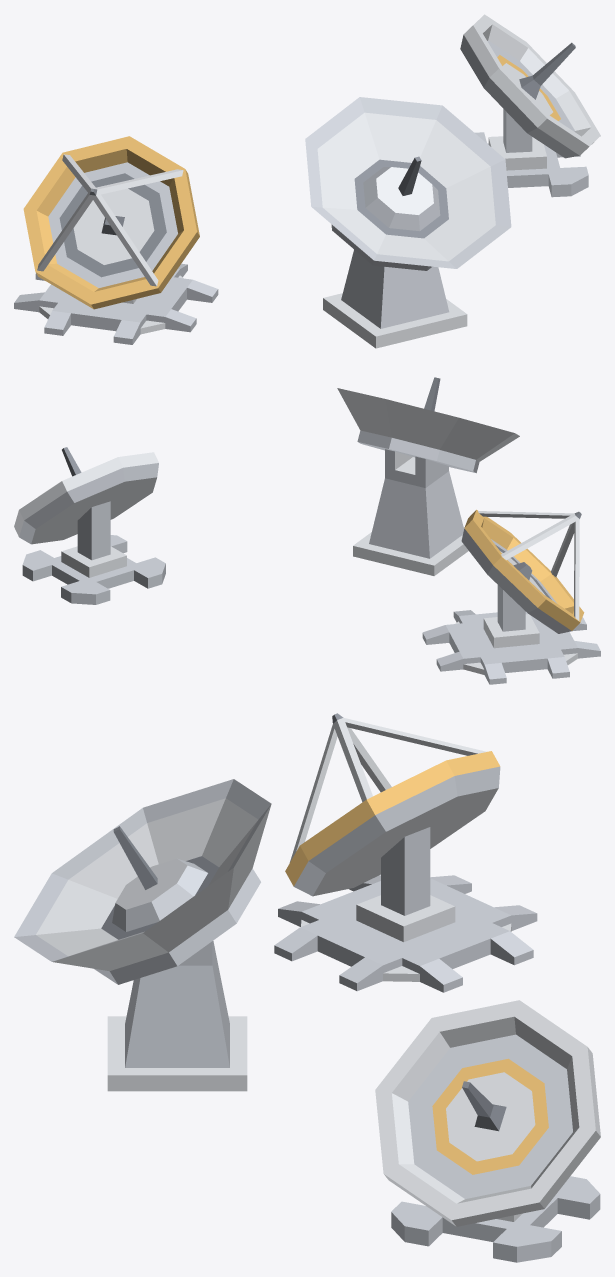
Rendered from satelite1.glb.
3 renders of one model, top to bottom at view 1: azimuth 30°, elevation 25°; view 2: azimuth 150°, elevation 25°; view 3: azimuth 270°, elevation 25°, orthographic. The views are drawn at different scales.
Parts seen in each view (by area): view 1: satelliteDish_large, satelliteDish_detailed, satelliteDish; view 2: satelliteDish_large, satelliteDish_detailed, satelliteDish; view 3: satelliteDish_large, satelliteDish, satelliteDish_detailed.
Part boxes in pixels (<box>): satelliteDish_large: <box>305,97,511,348</box>; satelliteDish_detailed: <box>14,136,218,344</box>; satelliteDish: <box>460,14,600,197</box>; satelliteDish_large: <box>337,377,519,575</box>; satelliteDish_detailed: <box>422,509,600,684</box>; satelliteDish: <box>14,447,165,604</box>; satelliteDish_large: <box>14,779,271,1091</box>; satelliteDish: <box>375,1000,600,1262</box>; satelliteDish_detailed: <box>274,713,537,992</box>.
Size of the model in its own units: 14.26 by 4.46 by 9.2.
